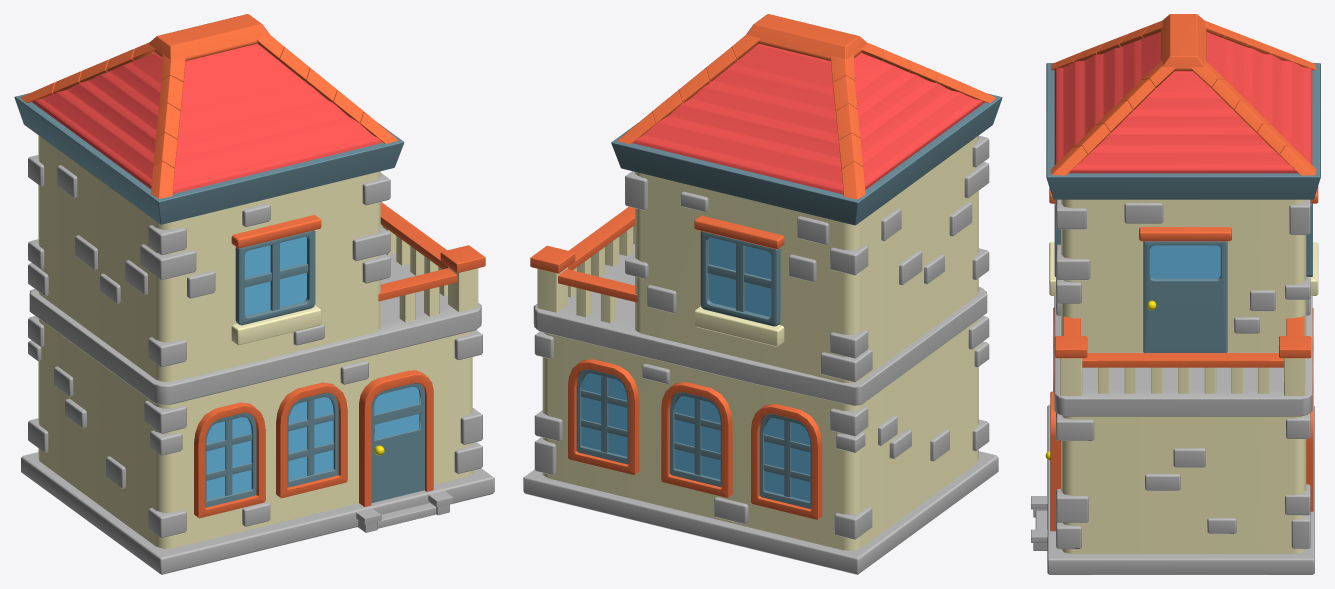
Rendered from Town_5_House_1.glb.
The picture shows the model from 3 angles, left to right: view 1: azimuth 30°, elevation 25°; view 2: azimuth 150°, elevation 25°; view 3: azimuth 270°, elevation 25°; orthographic projection. The views are drawn at different scales.
Visible parts, largest first — view 1: Town_5_House_1; view 2: Town_5_House_1; view 3: Town_5_House_1.
Part boxes in pixels (box(x1,y1,x2,y2)): Town_5_House_1: box(14, 14, 494, 574); Town_5_House_1: box(523, 14, 1002, 574); Town_5_House_1: box(1031, 14, 1320, 574).
Size of the model in its own units: 8.34 by 10.95 by 6.52.
1 material, 1 textured.
